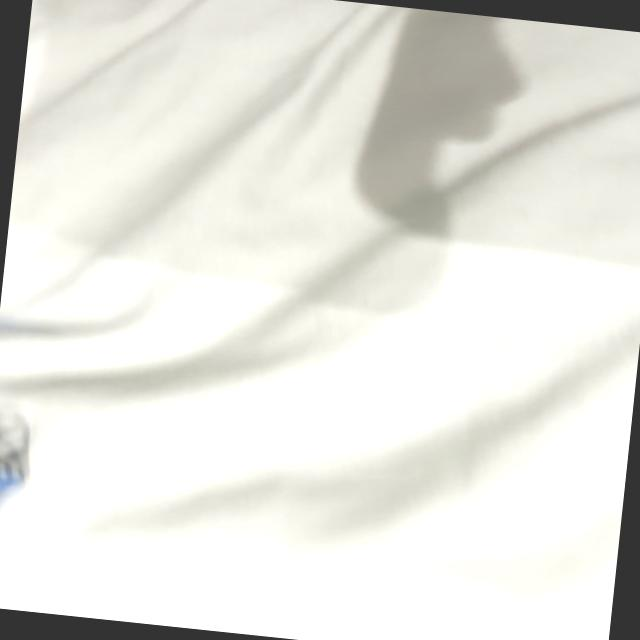mbot-detection: (0, 394, 42, 531)
